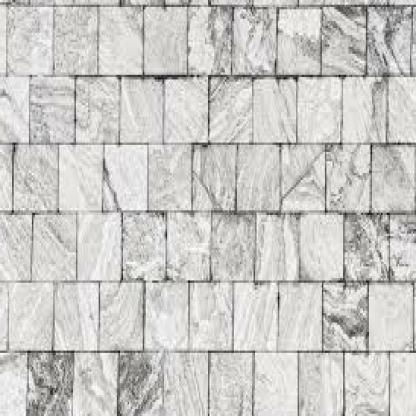Metamorphic_Marble: (3, 266, 64, 358), (115, 63, 174, 157), (51, 262, 107, 355), (141, 271, 202, 355), (96, 269, 153, 355), (137, 0, 194, 80), (233, 133, 288, 215), (65, 341, 126, 414), (355, 0, 415, 74), (320, 274, 374, 356), (158, 339, 217, 414), (221, 0, 281, 73), (185, 274, 240, 350), (58, 131, 109, 210), (24, 66, 78, 140), (296, 66, 345, 147), (324, 138, 376, 213), (274, 0, 326, 75), (251, 206, 305, 278), (210, 66, 256, 150), (250, 344, 304, 414), (73, 70, 123, 140), (97, 2, 146, 70), (149, 140, 196, 210)
